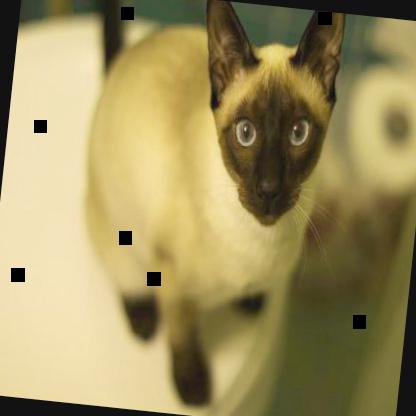cat: (60, 0, 348, 415)
